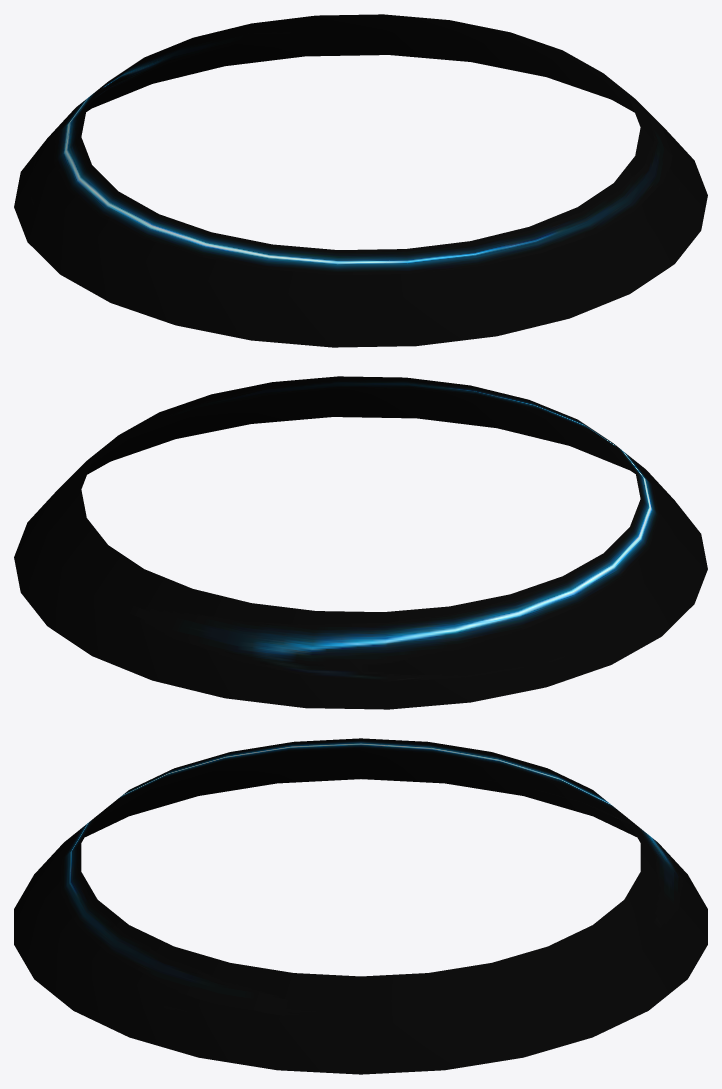
File: 0138_S_FX_exball4.glb
3 renders of one model, top to bottom at view 1: azimuth 30°, elevation 25°; view 2: azimuth 150°, elevation 25°; view 3: azimuth 270°, elevation 25°, orthographic.
Size of the model in its own units: 2.2 by 0.2412 by 2.18.
1 material, 1 textured.
